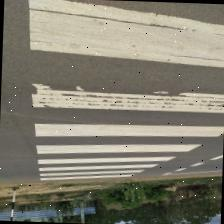crossing: (33, 119, 223, 144), (34, 138, 202, 160), (36, 152, 176, 169), (38, 159, 158, 176), (39, 170, 134, 184)
